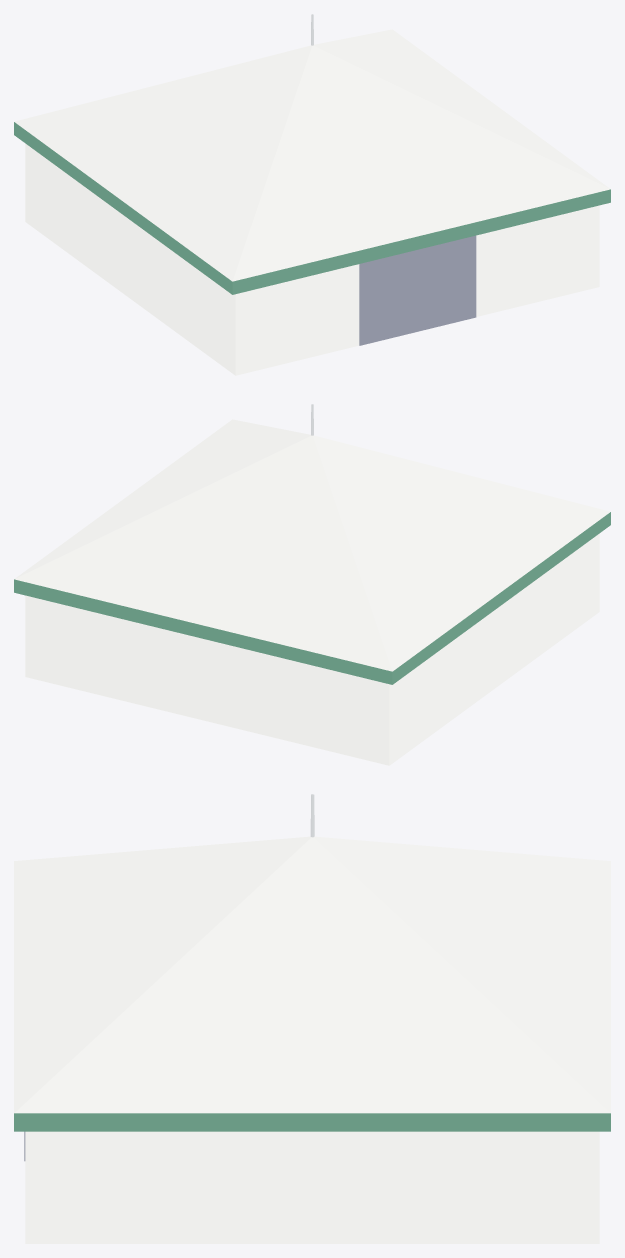
Rendered from Blender_Marquee_1.glb.
3 renders of one model, top to bottom at view 1: azimuth 30°, elevation 25°; view 2: azimuth 150°, elevation 25°; view 3: azimuth 270°, elevation 25°, orthographic. The views are drawn at different scales.
Visible parts, largest first — view 1: Blender_Marquee_1; view 2: Blender_Marquee_1; view 3: Blender_Marquee_1.
Boxes of the visible parts, x1=… form: Blender_Marquee_1: x1=14, y1=14, x2=610, y2=375; Blender_Marquee_1: x1=14, y1=404, x2=610, y2=765; Blender_Marquee_1: x1=14, y1=794, x2=610, y2=1243.
Size of the model in its own units: 10.4 by 6.3 by 10.4.
